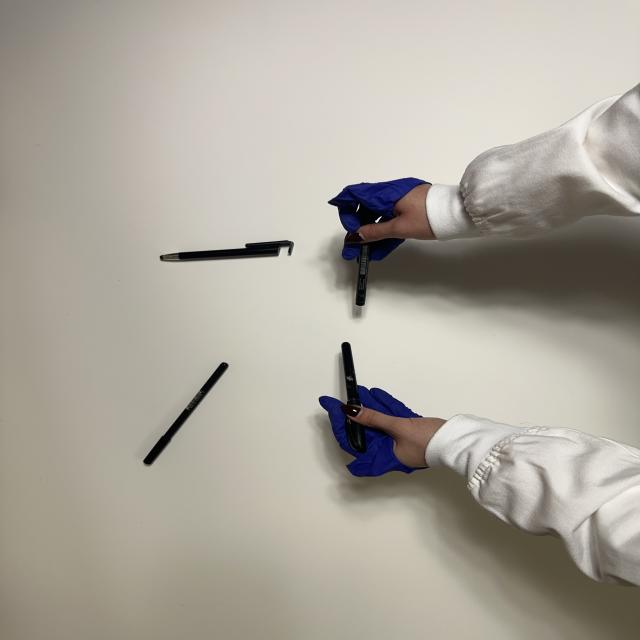glove_partial: (315, 382, 452, 481), (324, 174, 448, 264)
